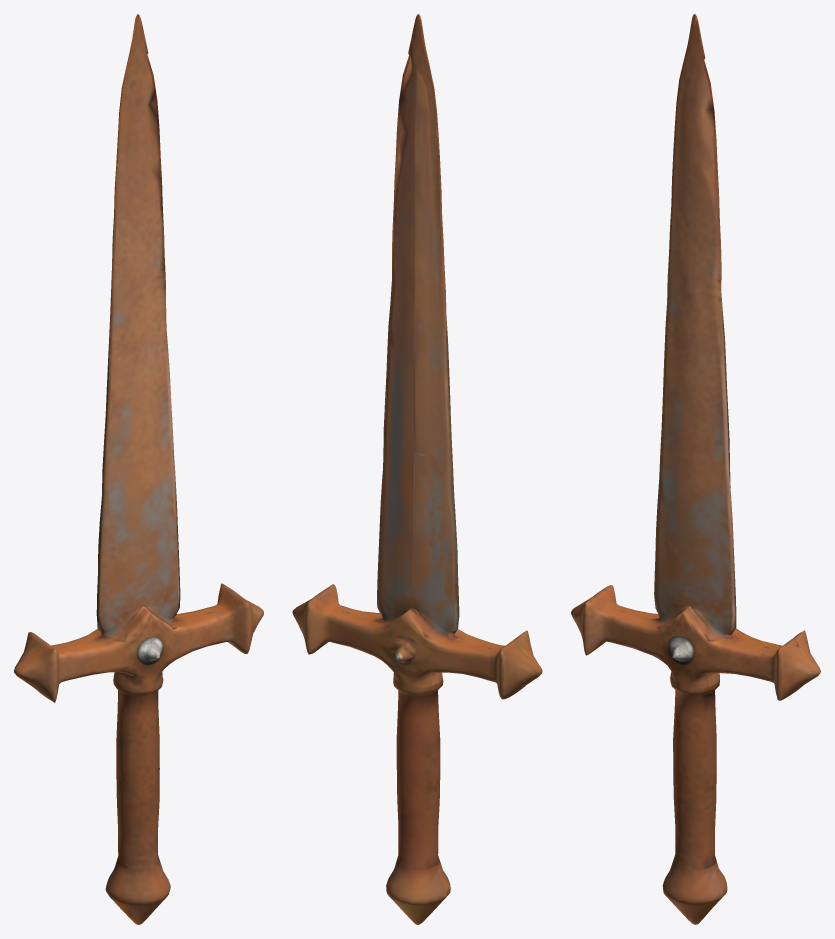
The model's file is 2h-sword-bronze.glb.
3 views of the same model, side by side, from view 1: azimuth 30°, elevation 25°; view 2: azimuth 150°, elevation 25°; view 3: azimuth 330°, elevation 25° (orthographic).
Bounding box in the file's own units: 0.5702 × 2 × 0.1711.
Materials: 1 (1 with a texture image).
